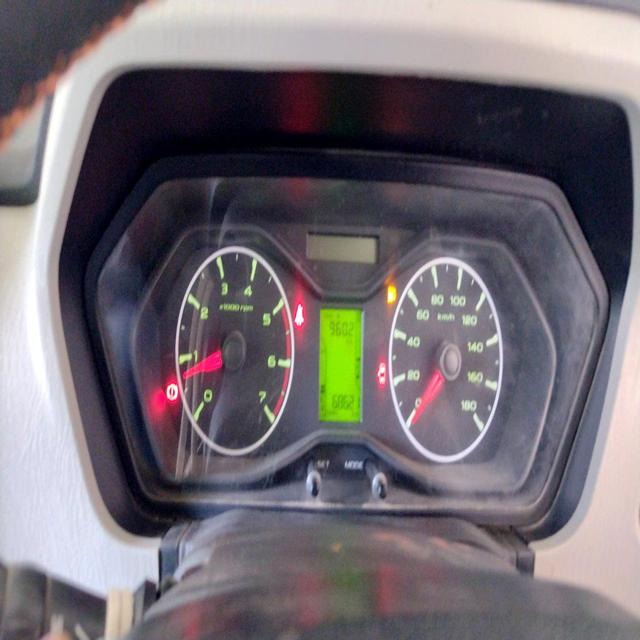odometer: (328, 320, 355, 339)
